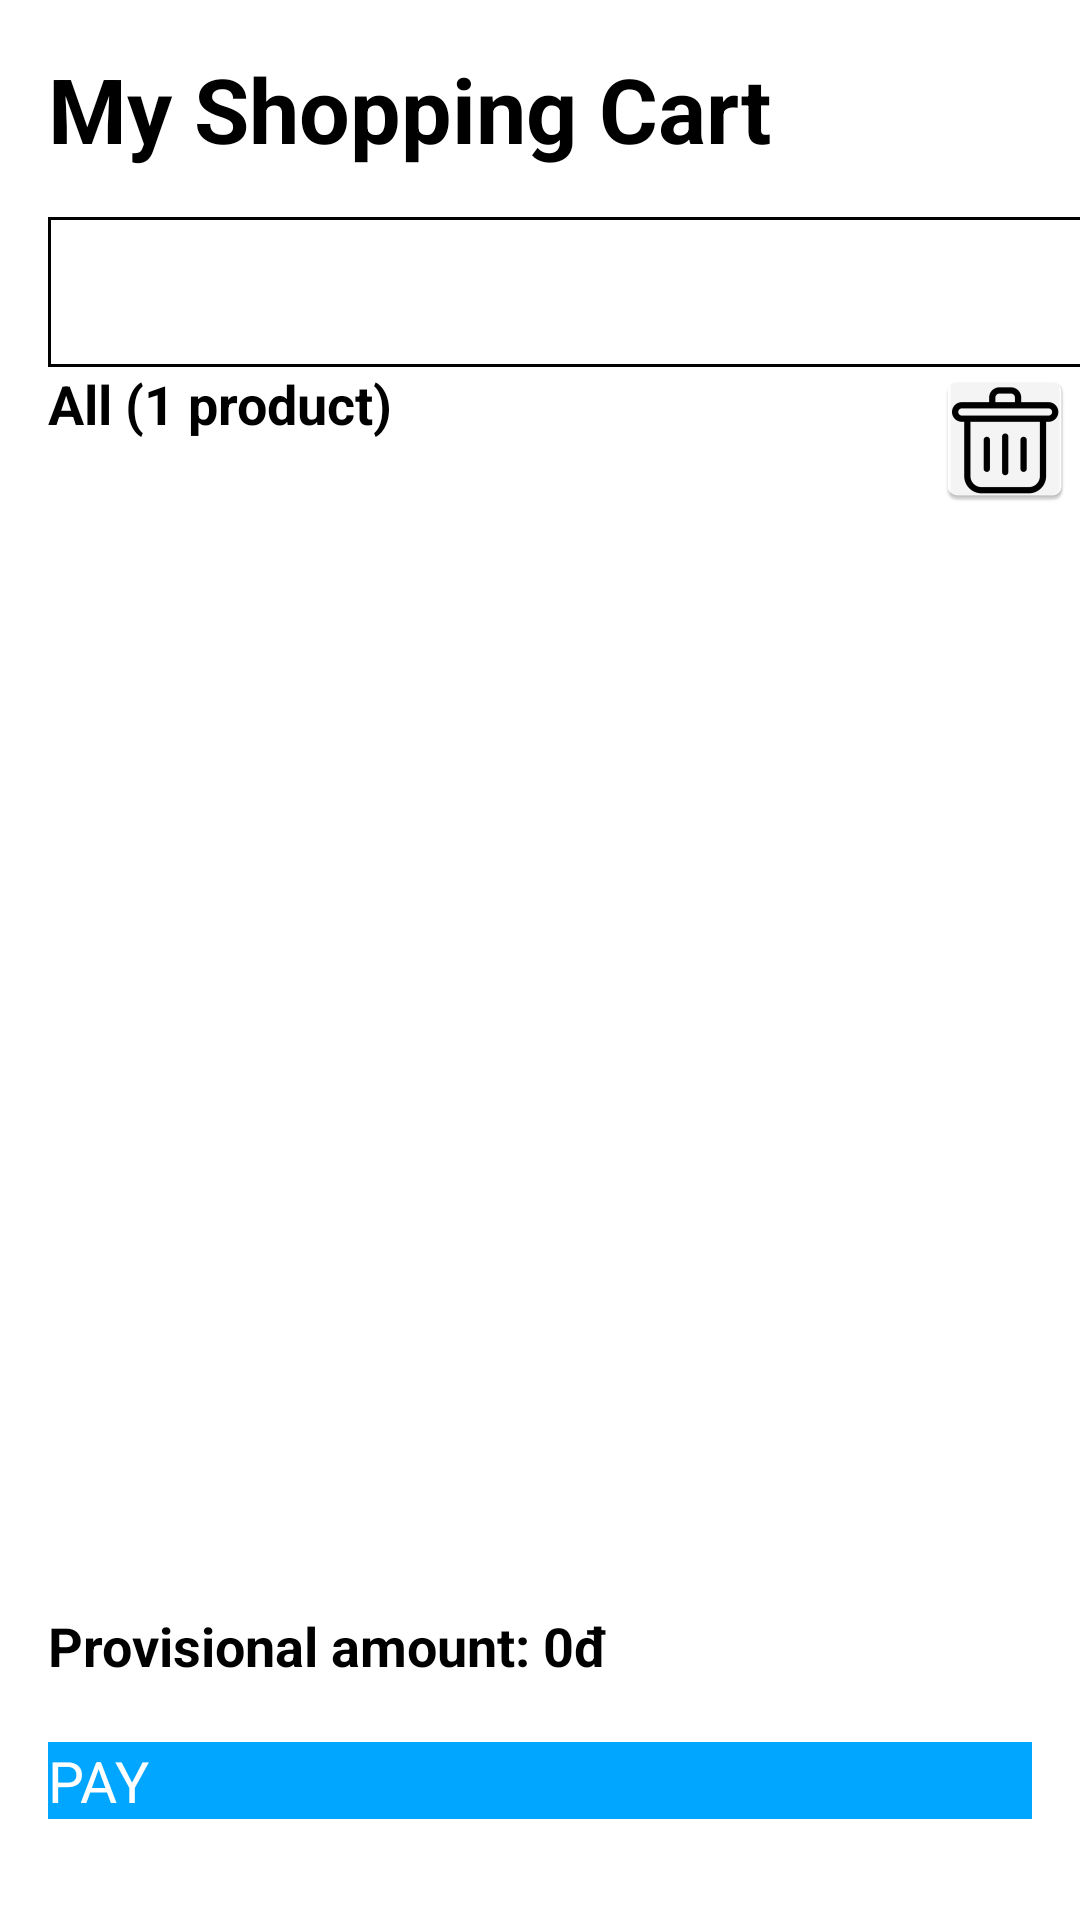

Icon bounding boxes for this 1080x1920 phone screenshot, format (x1=x1, y1=y1, x2=x2, y2=y2):
Xóa khỏi giỏ hàng: (x1=947, y1=382, x2=1063, y2=501)
